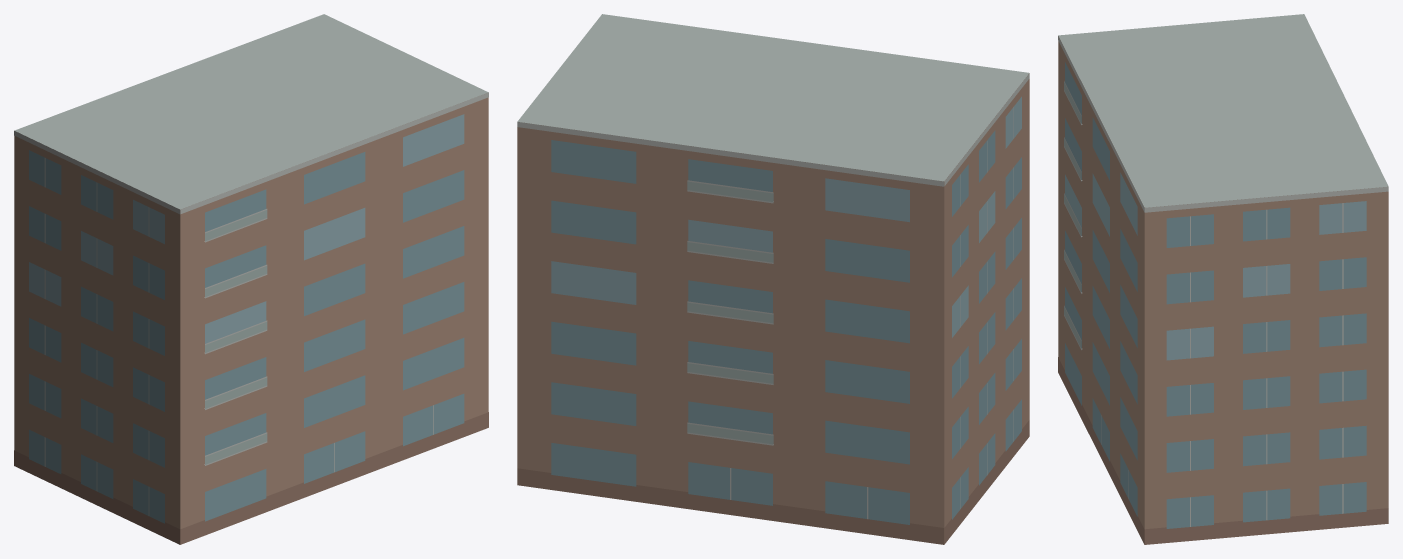
File: survey-upis-32697673.glb
The picture shows the model from 3 angles, left to right: view 1: azimuth 30°, elevation 25°; view 2: azimuth 150°, elevation 25°; view 3: azimuth 270°, elevation 25°; orthographic projection. The views are drawn at different scales.
Parts seen in each view (by area): view 1: survey-upis-32697673.tmp; view 2: survey-upis-32697673.tmp; view 3: survey-upis-32697673.tmp.
Boxes of the visible parts, bbox=[...] form: survey-upis-32697673.tmp: bbox=[14, 14, 488, 544]; survey-upis-32697673.tmp: bbox=[517, 14, 1029, 544]; survey-upis-32697673.tmp: bbox=[1058, 14, 1388, 544].
Bounding box in the file's own units: 20.6 × 16.7 × 14.85.
